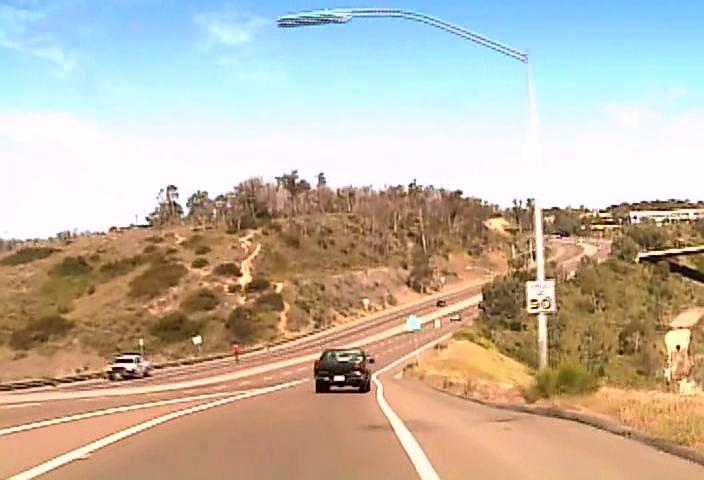speedLimit50: (526, 279, 556, 314)
